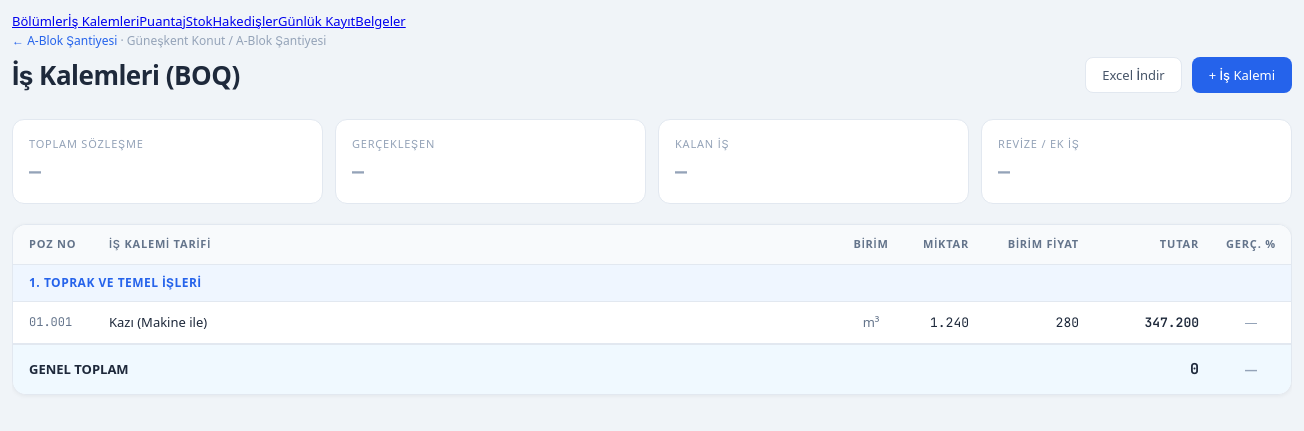
Test: BoqPage — a11y (spec §10) › indirme hatası canlı bölge olarak duyurulur (role=alert)
What coordinates should you click on to do the following:
click the button "Excel İndir"
I would click on:
 (1134, 75)
Its box is [1085,57,1182,93].
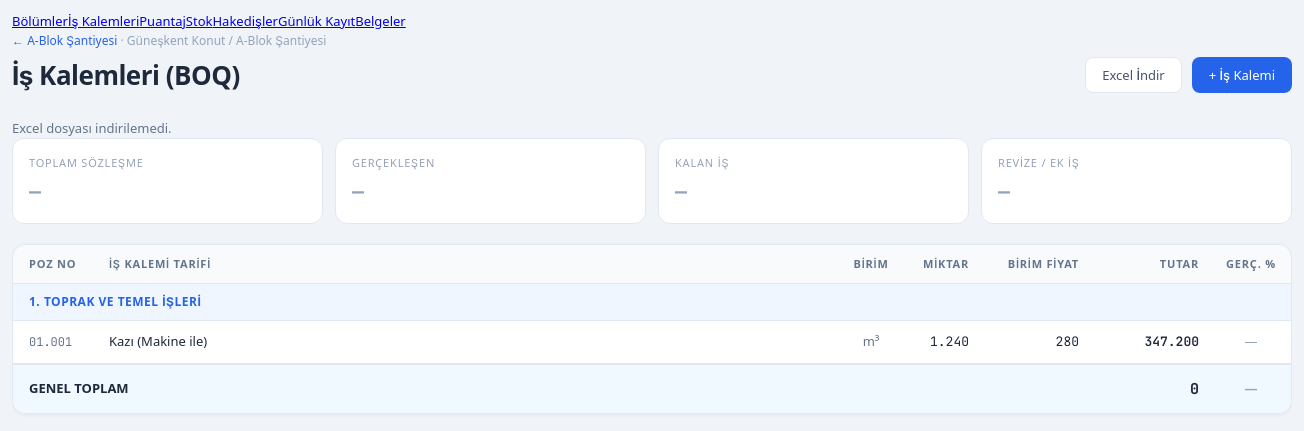
Expected: the message reads "Excel dosyası indirilemedi.", [12,118,172,136]
